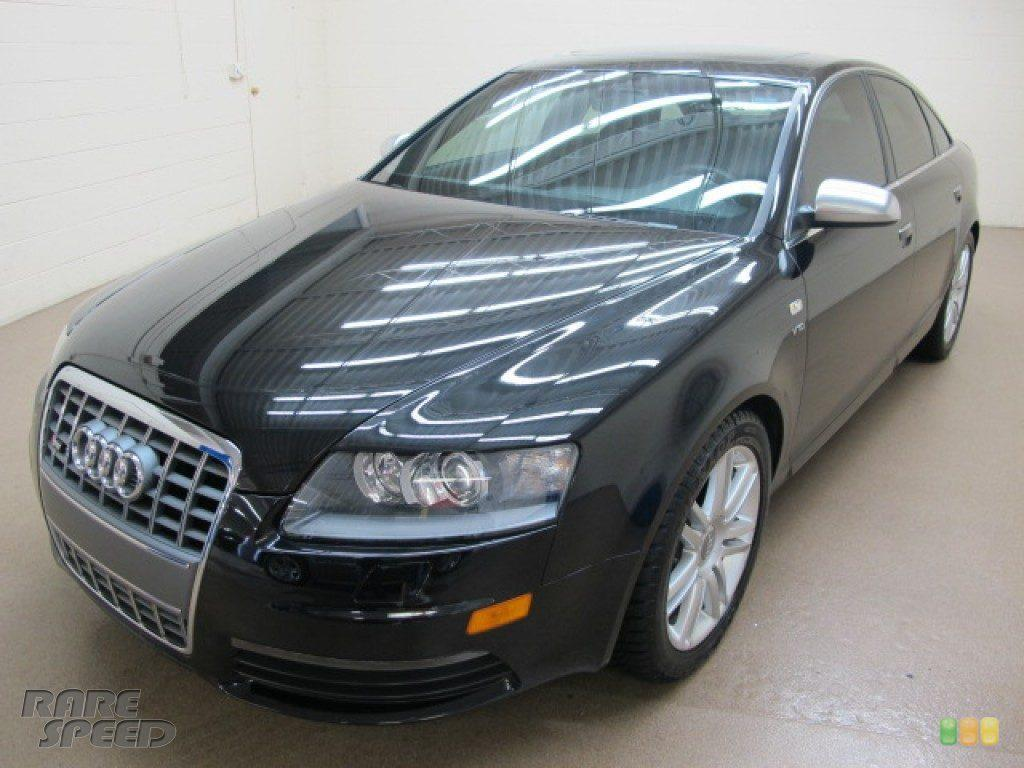Sedan: (29, 48, 981, 726)
